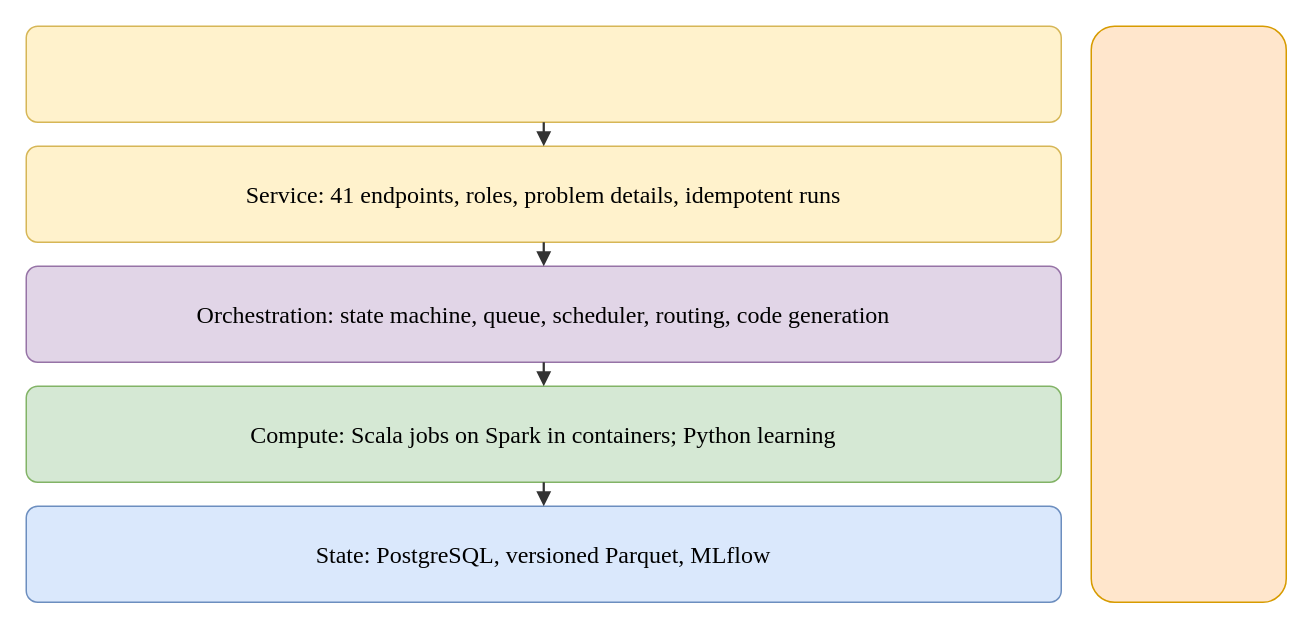
This 1313x629 diagram has some shape labels left out. The shapes that lost their labels are listed below. From the top down, each one's centre as x and y in pixels, then its label:
(x=543, y=73): Presentation: dashboard with provenance on every number
(x=1188, y=313): Governance policy approvals audit chain model integrity
